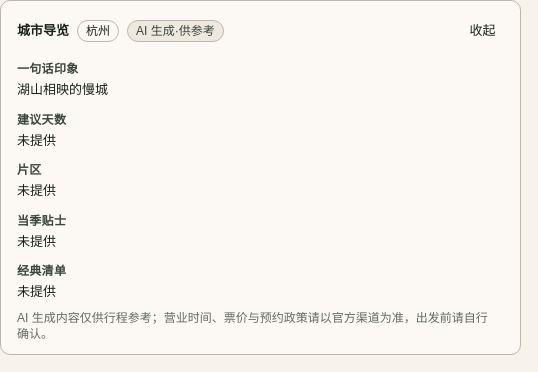
Test: CityProfileCardContent · 城市徽标 › 折叠后正文移除，城市徽标、AI 徽章与提示仍在
Step 1. Click the button with test id "city-profile-toggle" → (482, 31), box [462, 13, 504, 49]
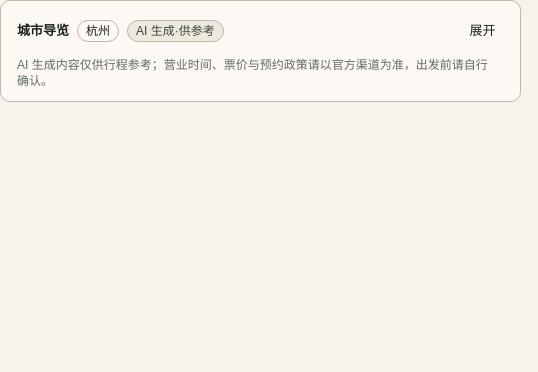
Expected: the text with test id "city-profile-city" reads "杭州", [86, 24, 110, 38]
Expected: the element with test id "city-profile-body" is gone
